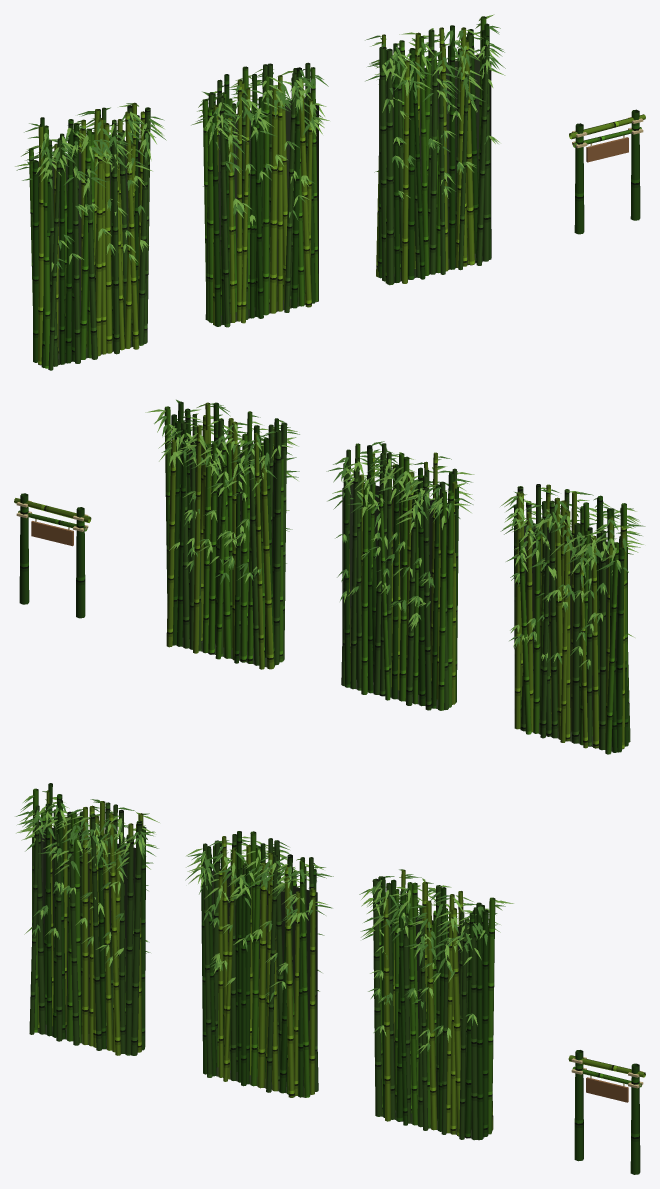
The model's file is japan_kit14_bamboo_maze.fbx.
3 renders of one model, top to bottom at view 1: azimuth 30°, elevation 25°; view 2: azimuth 150°, elevation 25°; view 3: azimuth 330°, elevation 25°, orthographic.
Parts seen in each view (by area): view 1: Bamboo_Culm_A, Bamboo_Culm_B, Bamboo_Culm_C, Gate_Culm, Bamboo_LeafD_A, Bamboo_LeafD_C, Bamboo_LeafL_B, Bamboo_LeafL_A, Bamboo_LeafL_C, Bamboo_LeafD_B, Bamboo_Core_C, Bamboo_Core_B (+2 smaller); view 2: Bamboo_Culm_C, Bamboo_Culm_B, Bamboo_Culm_A, Bamboo_LeafL_C, Bamboo_LeafD_A, Bamboo_LeafL_A, Gate_Culm, Bamboo_LeafL_B, Bamboo_LeafD_B, Bamboo_LeafD_C, Bamboo_Core_B, Bamboo_Core_A (+2 smaller); view 3: Bamboo_Culm_C, Bamboo_Culm_B, Bamboo_Culm_A, Gate_Culm, Bamboo_LeafD_C, Bamboo_LeafD_A, Bamboo_LeafD_B, Bamboo_LeafL_A, Bamboo_LeafL_B, Bamboo_LeafL_C, Bamboo_Core_B, Bamboo_Core_A (+2 smaller).
Part boxes in pixels (bbox=[...]): Bamboo_Culm_A: bbox=[29, 102, 150, 370]; Bamboo_Culm_B: bbox=[202, 62, 318, 327]; Bamboo_Culm_C: bbox=[376, 16, 491, 285]; Gate_Culm: bbox=[569, 109, 645, 234]; Bamboo_LeafD_A: bbox=[16, 103, 166, 268]; Bamboo_LeafD_C: bbox=[365, 23, 505, 200]; Bamboo_LeafL_B: bbox=[191, 69, 329, 225]; Bamboo_LeafL_A: bbox=[15, 104, 164, 271]; Bamboo_LeafL_C: bbox=[369, 14, 505, 198]; Bamboo_LeafD_B: bbox=[196, 69, 328, 220]; Bamboo_Core_C: bbox=[379, 54, 491, 282]; Bamboo_Core_B: bbox=[218, 98, 318, 325]; Bamboo_Culm_C: bbox=[164, 401, 287, 669]; Bamboo_Culm_B: bbox=[341, 443, 458, 710]; Bamboo_Culm_A: bbox=[513, 484, 630, 754]; Bamboo_LeafL_C: bbox=[145, 404, 298, 582]; Bamboo_LeafD_A: bbox=[500, 489, 645, 669]; Bamboo_LeafL_A: bbox=[500, 487, 643, 666]; Gate_Culm: bbox=[14, 493, 91, 618]; Bamboo_LeafL_B: bbox=[332, 449, 474, 630]; Bamboo_LeafD_B: bbox=[326, 441, 473, 623]; Bamboo_LeafD_C: bbox=[154, 399, 299, 584]; Bamboo_Core_B: bbox=[342, 481, 447, 708]; Bamboo_Core_A: bbox=[515, 522, 627, 751]; Bamboo_Culm_C: bbox=[372, 869, 495, 1140]; Bamboo_Culm_B: bbox=[201, 831, 318, 1097]; Bamboo_Culm_A: bbox=[29, 783, 146, 1055]; Gate_Culm: bbox=[568, 1050, 645, 1174]; Bamboo_LeafD_C: bbox=[359, 869, 505, 1051]; Bamboo_LeafD_A: bbox=[15, 791, 158, 963]; Bamboo_LeafD_B: bbox=[185, 840, 333, 1002]; Bamboo_LeafL_A: bbox=[16, 795, 159, 966]; Bamboo_LeafL_B: bbox=[186, 836, 327, 995]; Bamboo_LeafL_C: bbox=[361, 877, 513, 1053]; Bamboo_Core_B: bbox=[212, 868, 317, 1097]; Bamboo_Core_A: bbox=[32, 827, 135, 1055].
Size of the model in its own units: 71.69 by 26.81 by 8.43.
7 materials, 2 textured.
